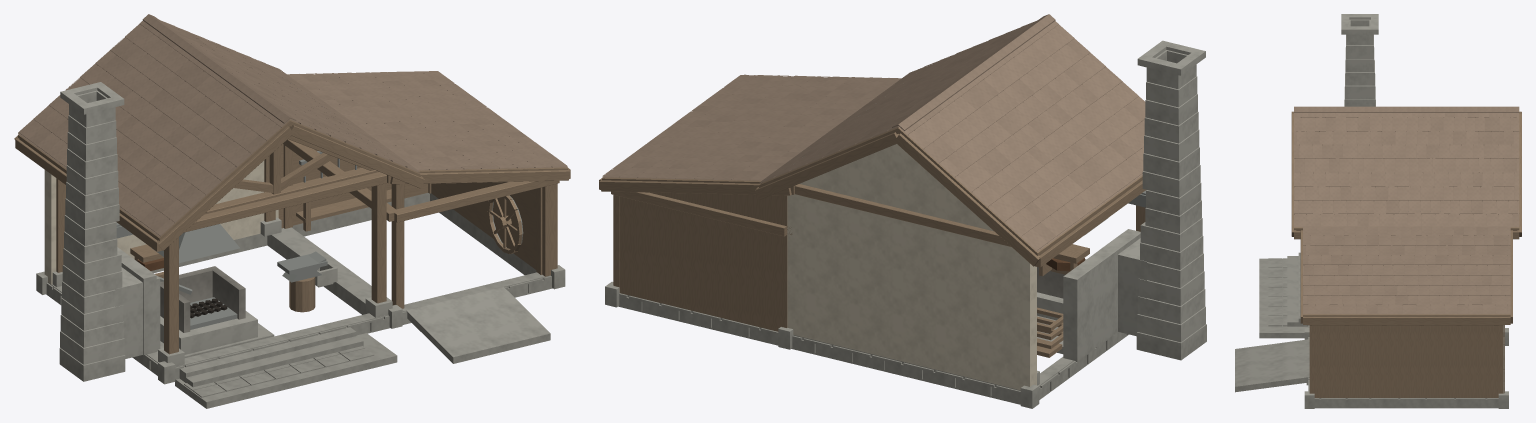
Rendered from smithy.glb.
3 views of the same model, side by side, from view 1: azimuth 30°, elevation 25°; view 2: azimuth 150°, elevation 25°; view 3: azimuth 270°, elevation 25° (orthographic). The views are drawn at different scales.
Parts seen in each view (by area): view 1: world_lowmark.forge_hall.Split oak shingle courses, world_lowmark.forge_hall.smithy.stack_courses, world_lowmark.smithy_stock_range.Split oak shingle courses, world_lowmark.forge_hall.smithy.primary_end_bent, world_lowmark.forge_hall.smithy.material_ramp, world_lowmark.forge_hall.Seasoned shingle cohorts, world_lowmark.smithy_stock_range.facade_walls, world_lowmark.forge_hall.Exposed shingle butts, world_lowmark.forge_hall.Roof edge fascia, world_lowmark.smithy_stock_range.facade_foundation_core, world_lowmark.forge_hall.facade_foundation_core, world_lowmark.forge_hall.smithy.workfront_threshold (+29 smaller); view 2: world_lowmark.forge_hall.facade_walls.001, world_lowmark.forge_hall.Split oak shingle courses, world_lowmark.smithy_stock_range.facade_board_skin, world_lowmark.forge_hall.smithy.stack_courses, world_lowmark.smithy_stock_range.Split oak shingle courses, world_lowmark.forge_hall.Seasoned shingle cohorts, world_lowmark.forge_hall.smithy.fire_screen, world_lowmark.forge_hall.Exposed shingle butts, world_lowmark.forge_hall.Roof edge fascia, world_lowmark.forge_hall.facade_stone, world_lowmark.smithy_stock_range.Exposed shingle butts, world_lowmark.smithy_stock_range.Seasoned shingle cohorts (+15 smaller); view 3: world_lowmark.forge_hall.Split oak shingle courses, world_lowmark.smithy_stock_range.facade_board_skin, world_lowmark.smithy_stock_range.Split oak shingle courses, world_lowmark.forge_hall.Exposed shingle butts, world_lowmark.forge_hall.Seasoned shingle cohorts, world_lowmark.forge_hall.smithy.material_ramp, world_lowmark.smithy_stock_range.Exposed shingle butts, world_lowmark.forge_hall.smithy.stack_courses, world_lowmark.smithy_stock_range.Seasoned shingle cohorts, world_lowmark.smithy_stock_range.Roof edge fascia, world_lowmark.forge_hall.Concealed roof course bedding, world_lowmark.smithy_stock_range.facade_stone (+9 smaller).
Boxes of the visible parts, x1,y1,x2,y2 form: world_lowmark.forge_hall.Split oak shingle courses: [18, 20, 407, 236]; world_lowmark.forge_hall.smithy.stack_courses: [59, 82, 125, 381]; world_lowmark.smithy_stock_range.Split oak shingle courses: [287, 71, 562, 169]; world_lowmark.forge_hall.smithy.primary_end_bent: [56, 136, 386, 354]; world_lowmark.forge_hall.smithy.material_ramp: [406, 287, 550, 363]; world_lowmark.forge_hall.Seasoned shingle cohorts: [18, 23, 392, 236]; world_lowmark.smithy_stock_range.facade_walls: [278, 144, 556, 276]; world_lowmark.forge_hall.Exposed shingle butts: [21, 24, 419, 222]; world_lowmark.forge_hall.Roof edge fascia: [14, 125, 424, 251]; world_lowmark.smithy_stock_range.facade_foundation_core: [281, 193, 552, 324]; world_lowmark.forge_hall.facade_foundation_core: [46, 231, 389, 375]; world_lowmark.forge_hall.smithy.workfront_threshold: [179, 327, 363, 387]; world_lowmark.forge_hall.facade_walls.001: [787, 144, 1036, 390]; world_lowmark.forge_hall.Split oak shingle courses: [764, 20, 1145, 250]; world_lowmark.smithy_stock_range.facade_board_skin: [613, 192, 787, 331]; world_lowmark.forge_hall.smithy.stack_courses: [1136, 40, 1206, 360]; world_lowmark.smithy_stock_range.Split oak shingle courses: [602, 74, 901, 180]; world_lowmark.forge_hall.Seasoned shingle cohorts: [760, 28, 1145, 251]; world_lowmark.forge_hall.smithy.fire_screen: [1063, 229, 1147, 361]; world_lowmark.forge_hall.Exposed shingle butts: [800, 21, 1144, 248]; world_lowmark.forge_hall.Roof edge fascia: [755, 132, 1146, 267]; world_lowmark.forge_hall.facade_stone: [792, 332, 1128, 403]; world_lowmark.smithy_stock_range.Exposed shingle butts: [631, 75, 892, 179]; world_lowmark.smithy_stock_range.Seasoned shingle cohorts: [632, 75, 868, 179]; world_lowmark.forge_hall.Split oak shingle courses: [1294, 112, 1519, 226]; world_lowmark.smithy_stock_range.facade_board_skin: [1309, 325, 1504, 397]; world_lowmark.smithy_stock_range.Split oak shingle courses: [1303, 227, 1510, 313]; world_lowmark.forge_hall.Exposed shingle butts: [1294, 112, 1519, 226]; world_lowmark.forge_hall.Seasoned shingle cohorts: [1294, 112, 1519, 226]; world_lowmark.forge_hall.smithy.material_ramp: [1235, 339, 1309, 392]; world_lowmark.smithy_stock_range.Exposed shingle butts: [1303, 227, 1510, 313]; world_lowmark.forge_hall.smithy.stack_courses: [1341, 14, 1378, 106]; world_lowmark.smithy_stock_range.Seasoned shingle cohorts: [1303, 227, 1510, 313]; world_lowmark.smithy_stock_range.Roof edge fascia: [1300, 230, 1512, 324]; world_lowmark.forge_hall.Concealed roof course bedding: [1294, 113, 1519, 227]; world_lowmark.smithy_stock_range.facade_stone: [1308, 337, 1504, 407].
Bounding box in the file's own units: 11.41 × 6.59 × 7.68.
14 materials, 13 textured.
